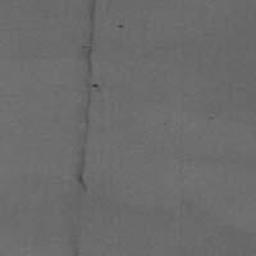Inclusion: (74, 0, 101, 193), (70, 248, 83, 256), (116, 23, 127, 29)
